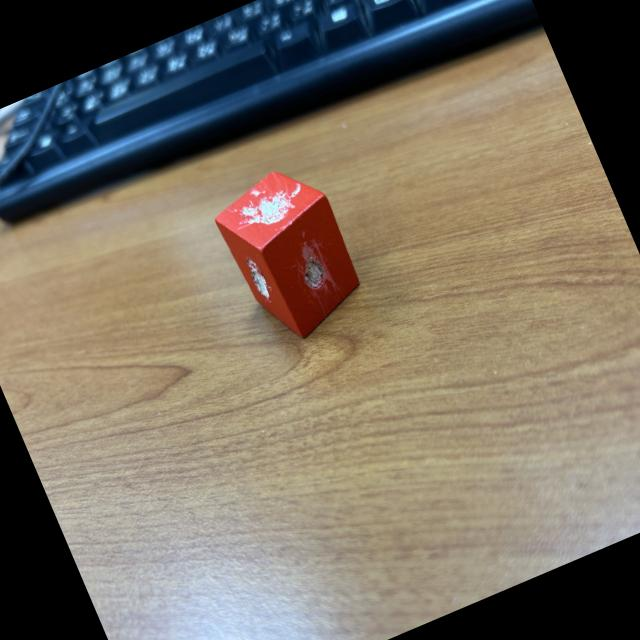broken: (204, 152, 376, 354)
